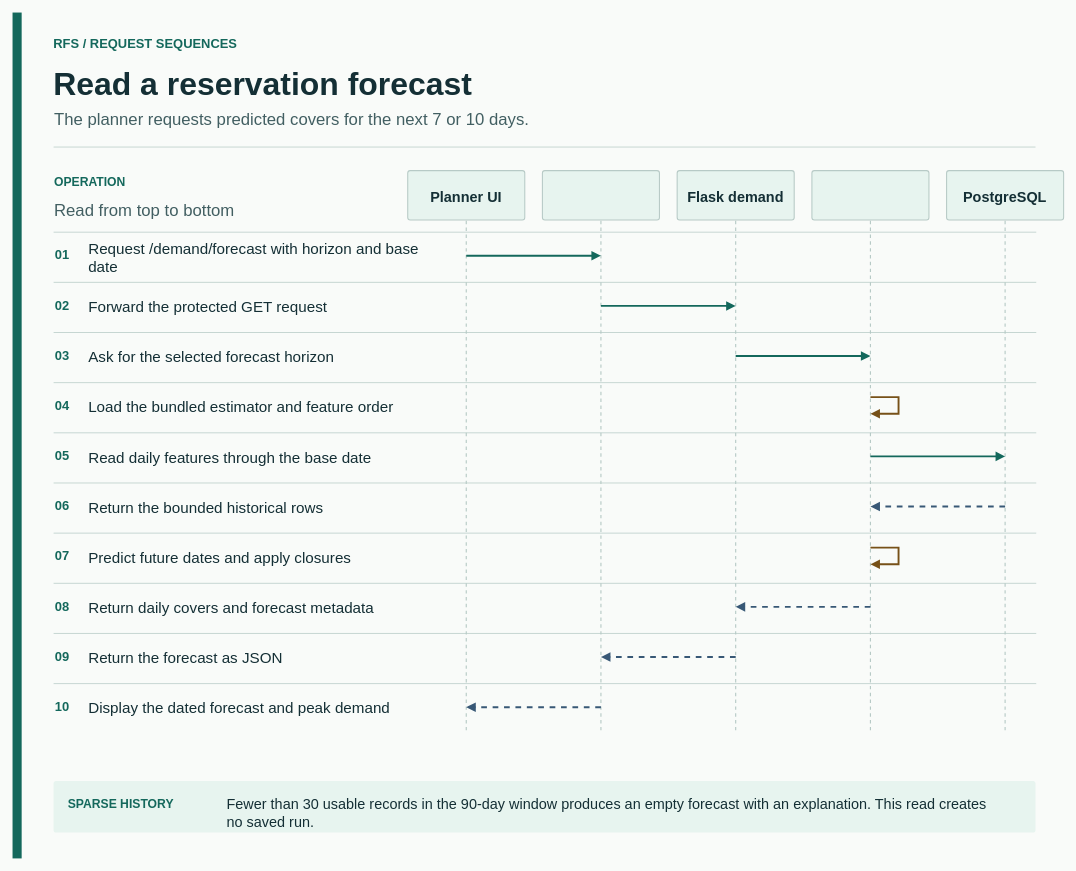
Some shapes in this 1076 by 871 pixel diagram are drawn without their labels. Here are the shapes that lost their labels. From the top down, the centre of each, then its label:
At point (601, 195): "Next.js proxy".
At point (870, 195): "Prediction".
